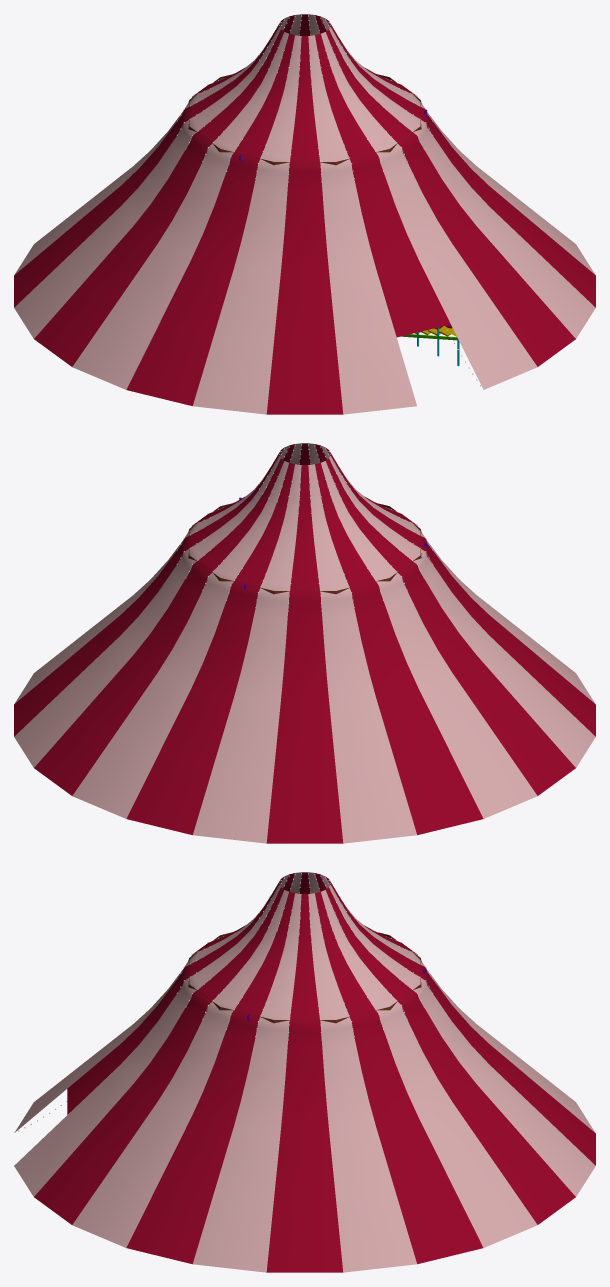
Rendered from BigTopInteriorModels.fbx.
3 views of the same model, one above another, from view 1: azimuth 30°, elevation 25°; view 2: azimuth 150°, elevation 25°; view 3: azimuth 270°, elevation 25° (orthographic).
Parts seen in each view (by area): view 1: Tent, Structure; view 2: Tent, Structure; view 3: Tent, Structure.
Boxes of the visible parts, x1,y1,x2,y2 form: Tent: (14, 14, 595, 414); Structure: (188, 74, 459, 366); Tent: (14, 443, 595, 843); Structure: (188, 497, 427, 594); Tent: (14, 872, 595, 1272); Structure: (188, 932, 426, 1023).
Bounding box in the file's own units: 3766 × 1976 × 3765.
